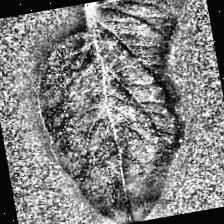spider mites: (25, 0, 211, 224)
